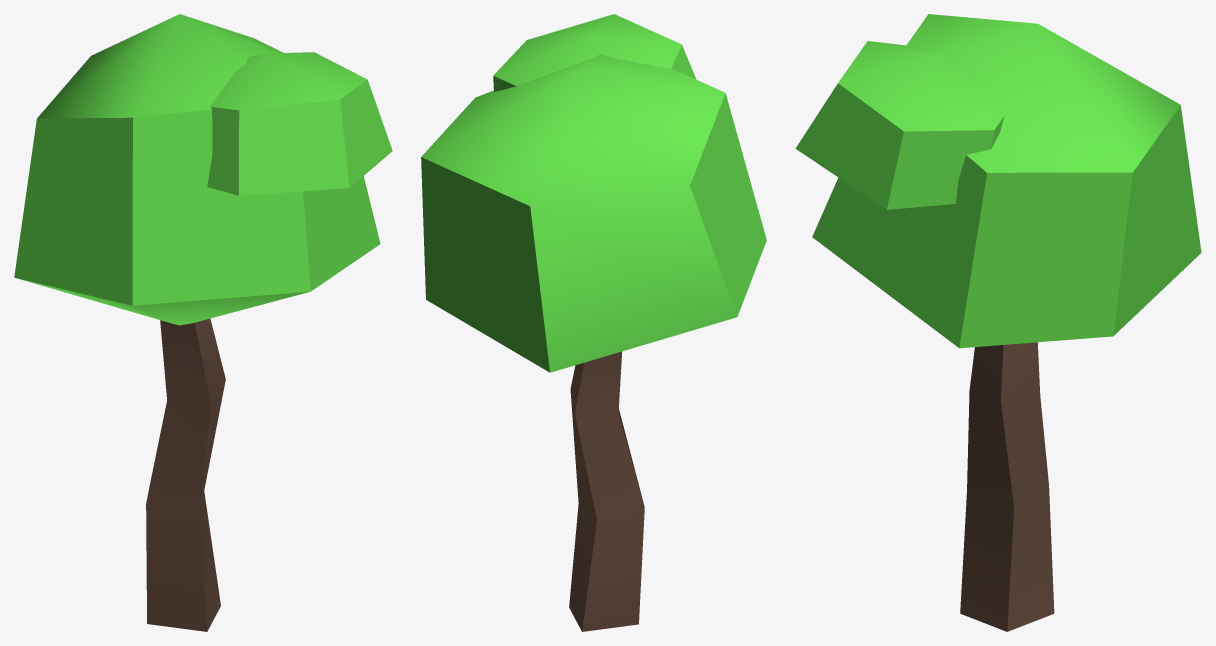
Rendered from Tree_Small_0.FBX.
The picture shows the model from 3 angles, left to right: view 1: azimuth 30°, elevation 25°; view 2: azimuth 150°, elevation 25°; view 3: azimuth 270°, elevation 25°; orthographic projection. The views are drawn at different scales.
Parts seen in each view (by area): view 1: Cylinder003; view 2: Cylinder003; view 3: Cylinder003.
Part boxes in pixels (box(x1,y1,x2,y2)): Cylinder003: box(14, 14, 392, 631); Cylinder003: box(421, 14, 766, 631); Cylinder003: box(795, 14, 1201, 631).
Bounding box in the file's own units: 311 × 531 × 328.
